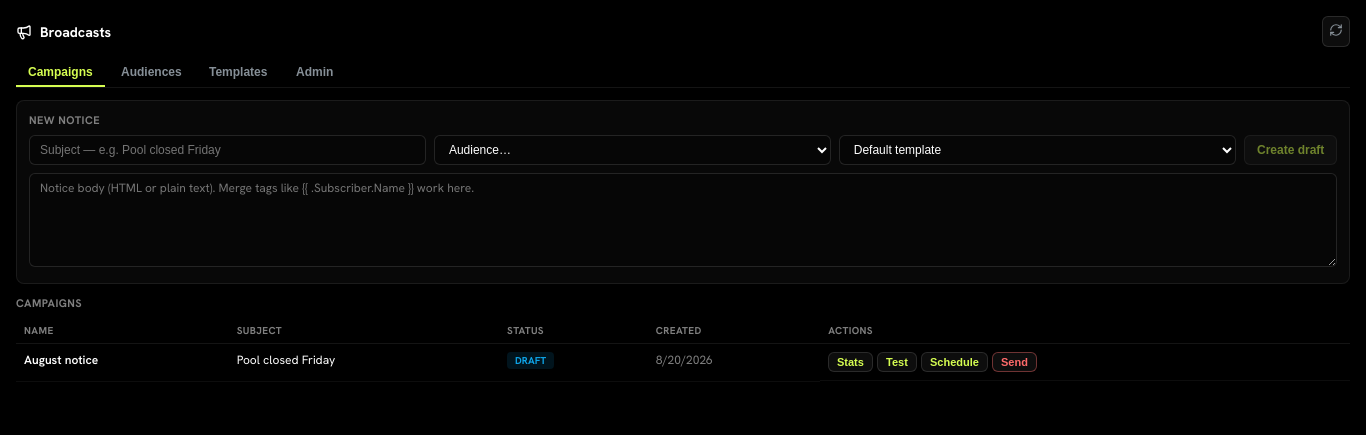
Test: Broadcasts widget — Campaigns tab › renders campaigns; composer posts a draft with audience + template + BODY (content_type html)
Expected: the tab "Campaigns" is shown, [16, 59, 105, 87]
Expected: the text "August notice" is shown, [16, 344, 229, 381]
Step 1. Type "Elevator maintenance" into the field named "Notice subject" → (227, 150), box [29, 135, 426, 165]
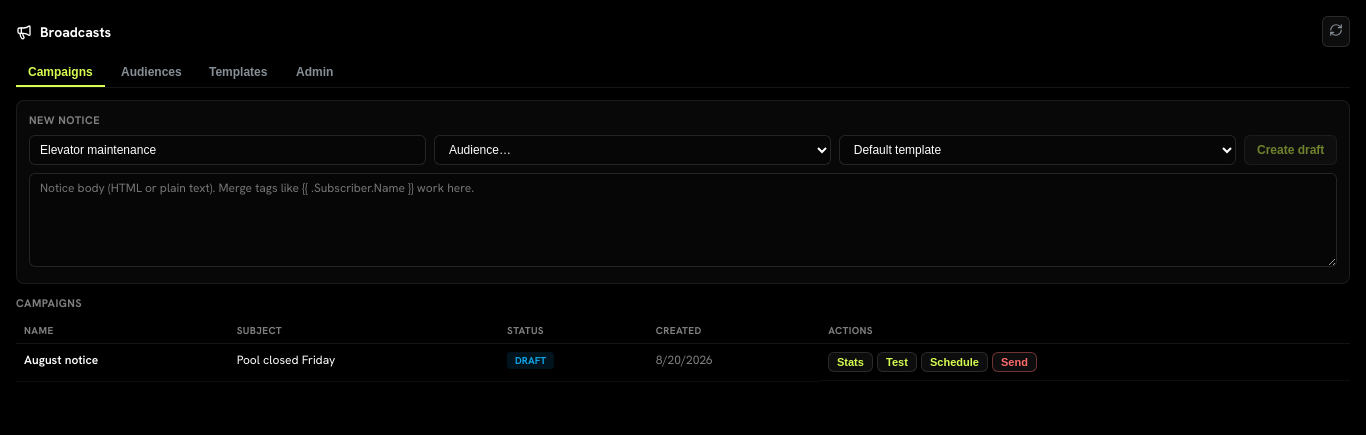
Step 2. Select "Woodland Parc Townhomes (24)" in the dropdown named "Audience" → (632, 150), box [434, 135, 831, 165]
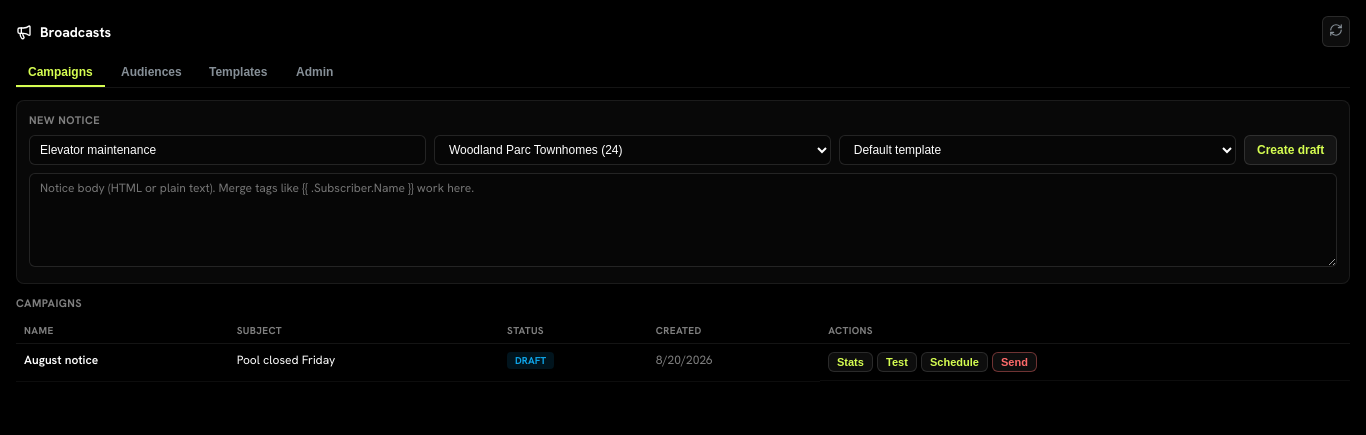
Step 3. Select "Rent reminder" in the dropdown named "Template" → (1037, 150), box [839, 135, 1236, 165]
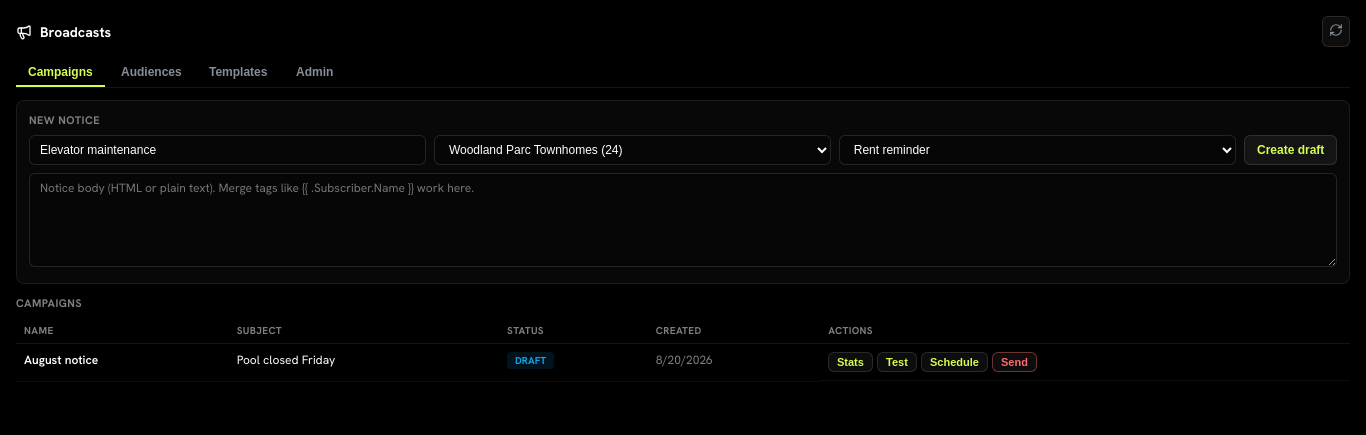
Step 4. Replace the text in the text box labelled "Notice body" with "<p>Elevator down 9–12 on Friday.</p>" → (683, 220), box [29, 173, 1337, 267]
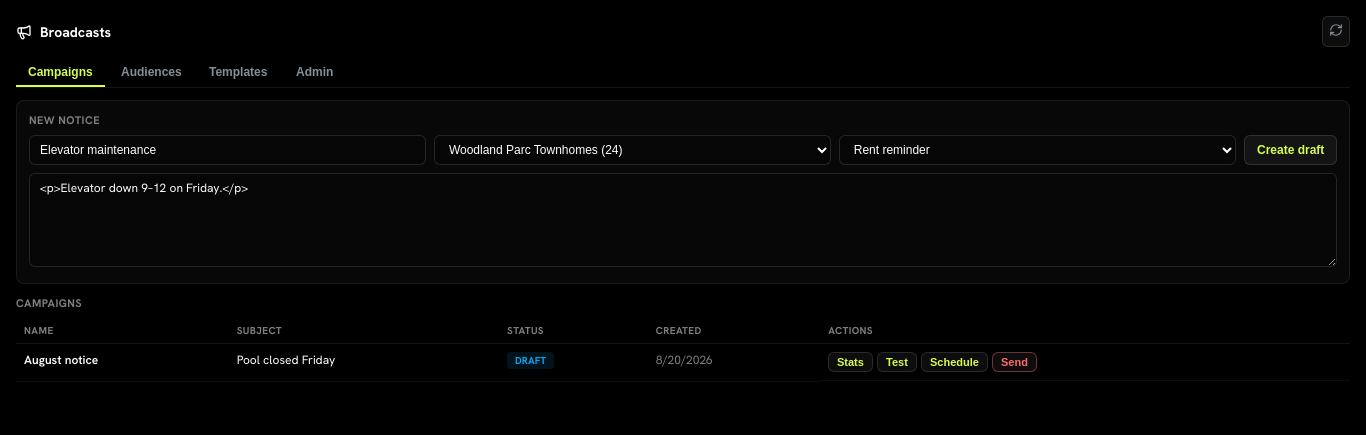
Expected: the button "Create draft" is enabled
Step 5. Click the button "Create draft" → (1290, 150), box [1244, 135, 1337, 165]
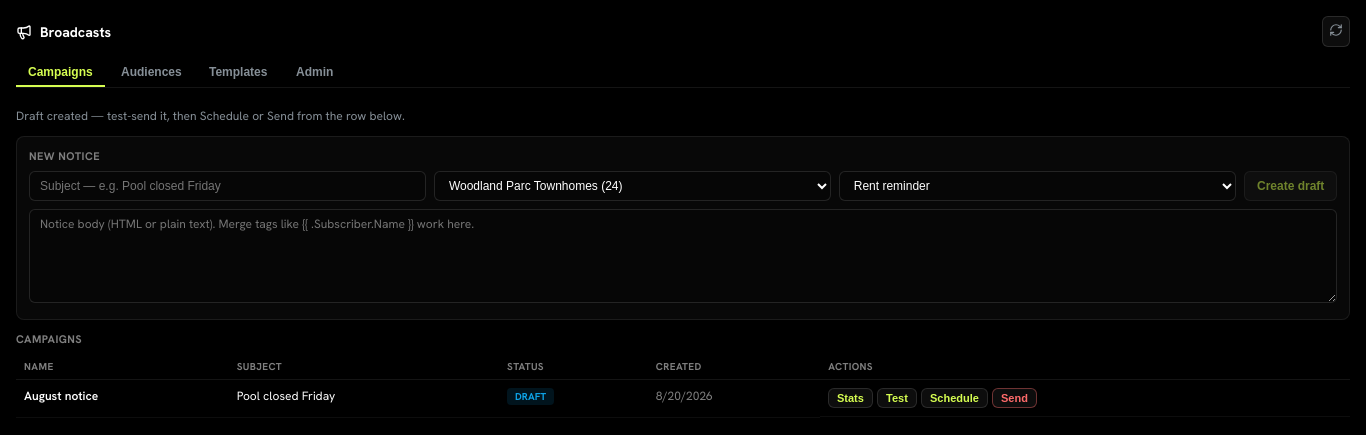
Expected: the text "Draft created — test-send it, then Schedule or Send from the row below." is shown, [16, 108, 405, 124]
